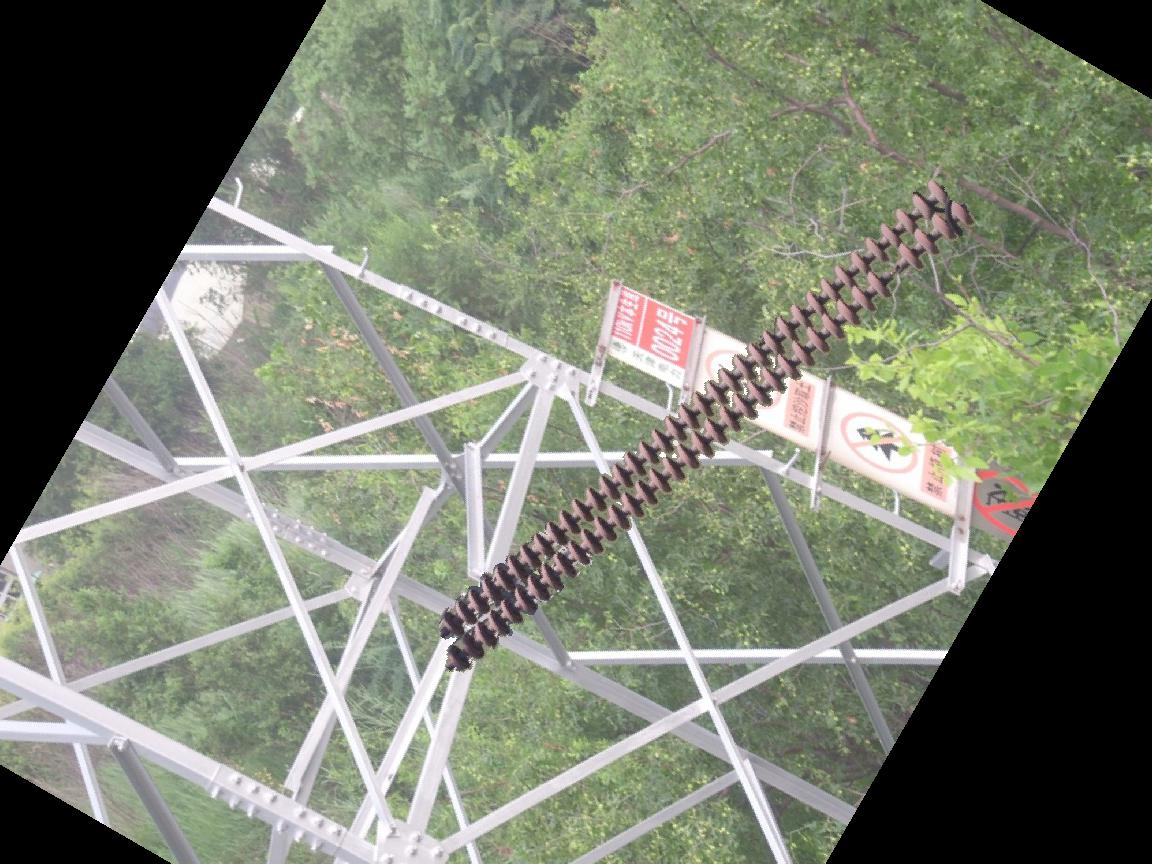insulator: (434, 173, 974, 676)
insulator_stringdrop: (865, 240, 927, 301)
